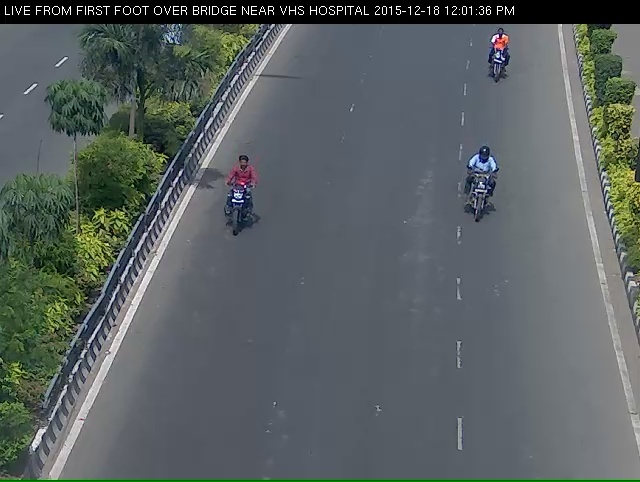Person: (456, 157, 507, 244), (207, 170, 255, 258), (478, 31, 521, 95)
